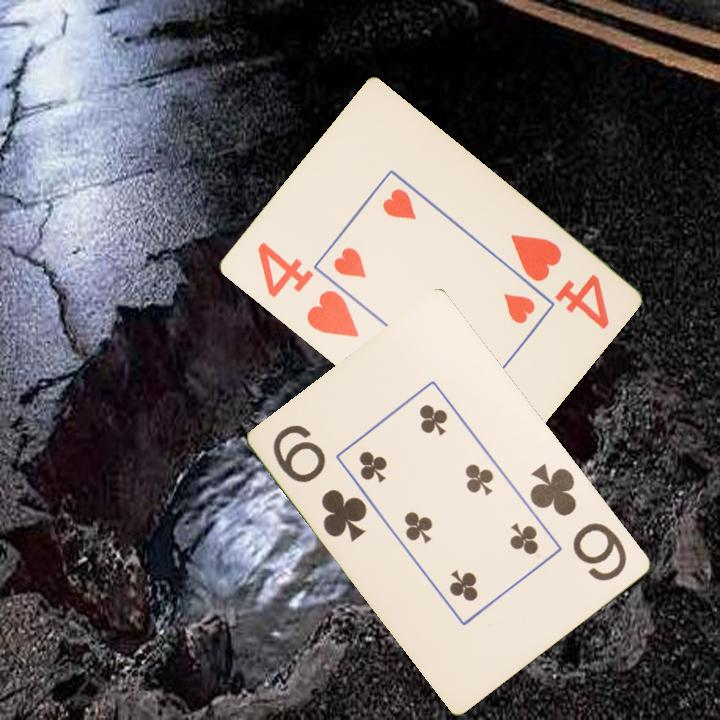4h: (253, 238, 362, 341), (506, 230, 612, 333)
6c: (526, 460, 631, 585), (269, 420, 371, 545)
